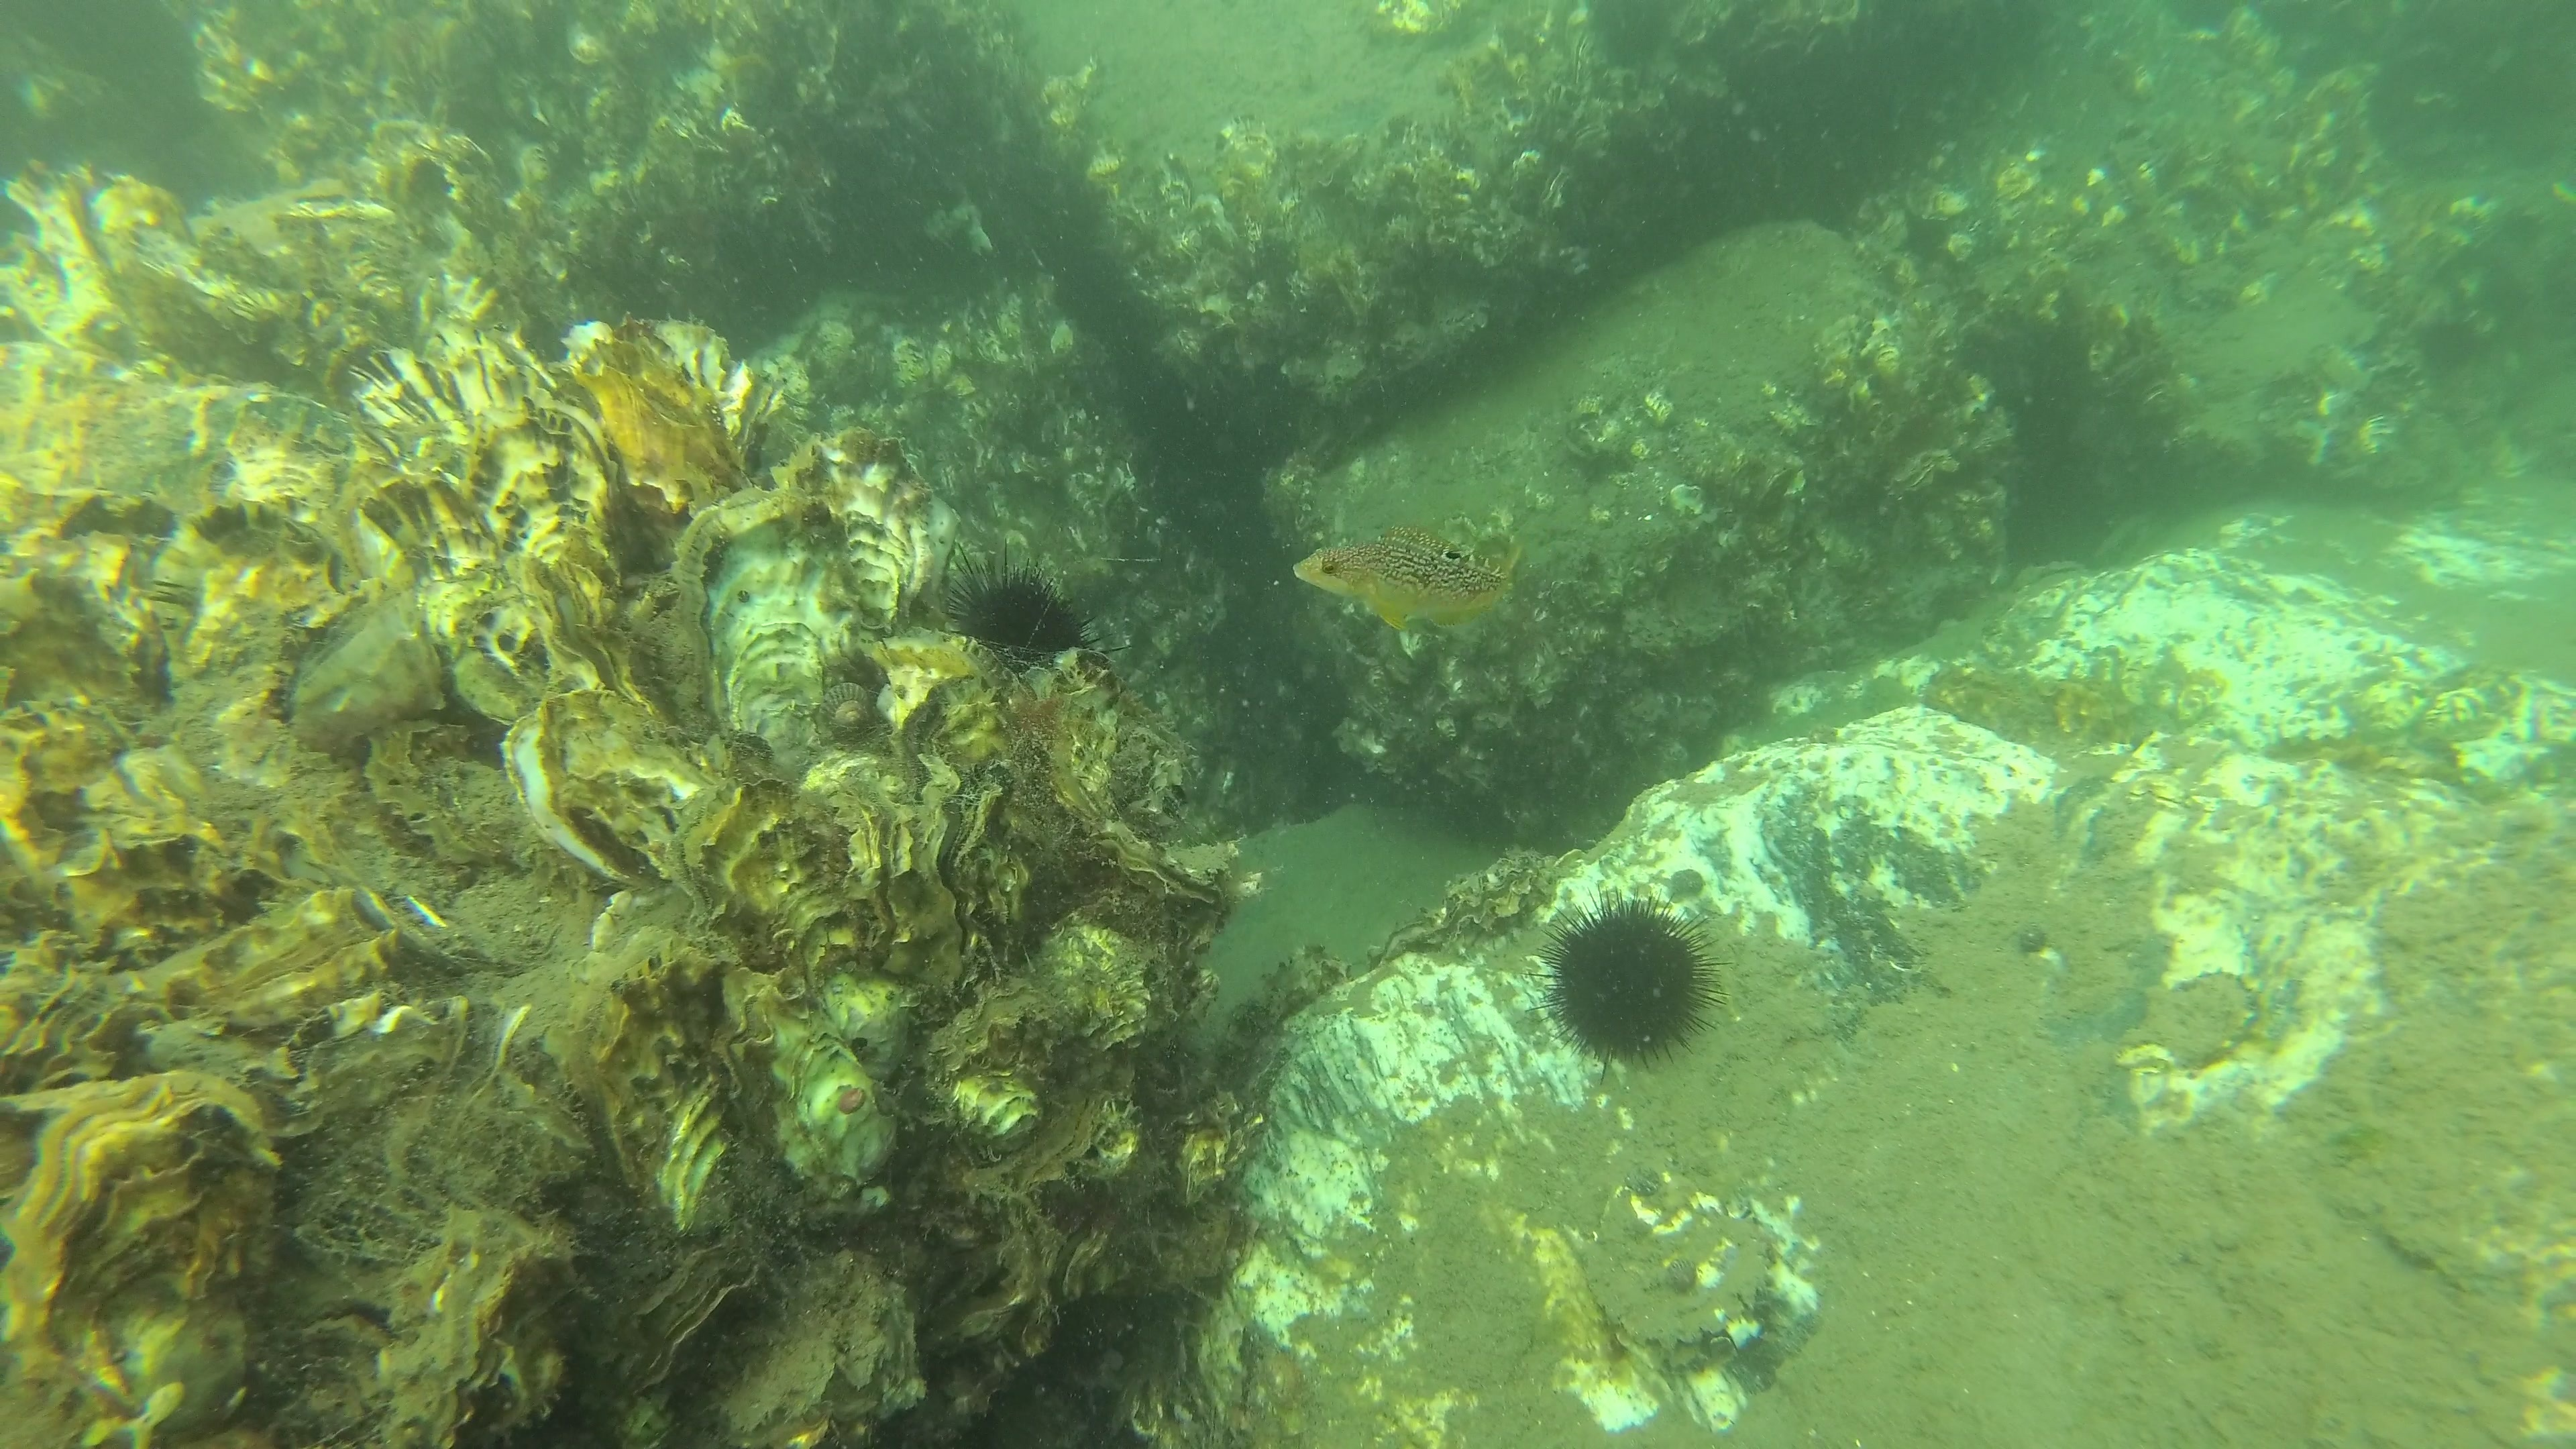echinus: (1536, 893, 1730, 1074), (947, 541, 1131, 667), (1585, 0, 1686, 71), (2419, 317, 2488, 382)
